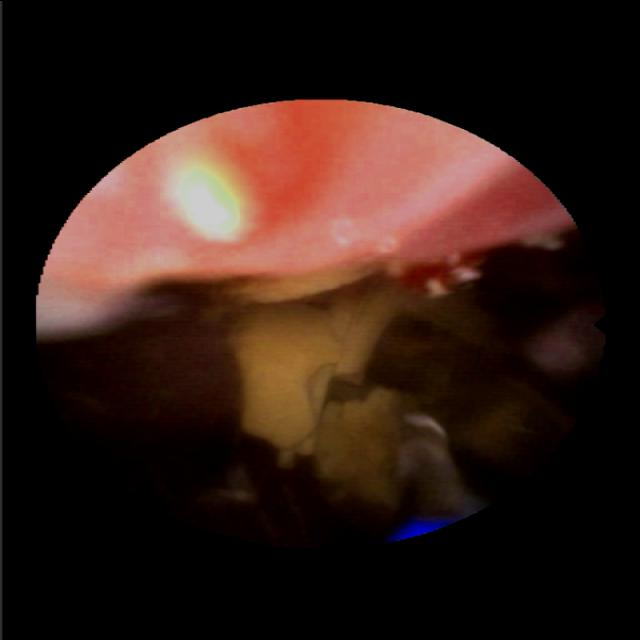fiber: (390, 516, 460, 539)
stone: (212, 274, 560, 533), (165, 158, 242, 240)
tissue: (44, 106, 566, 334), (48, 297, 329, 541)
